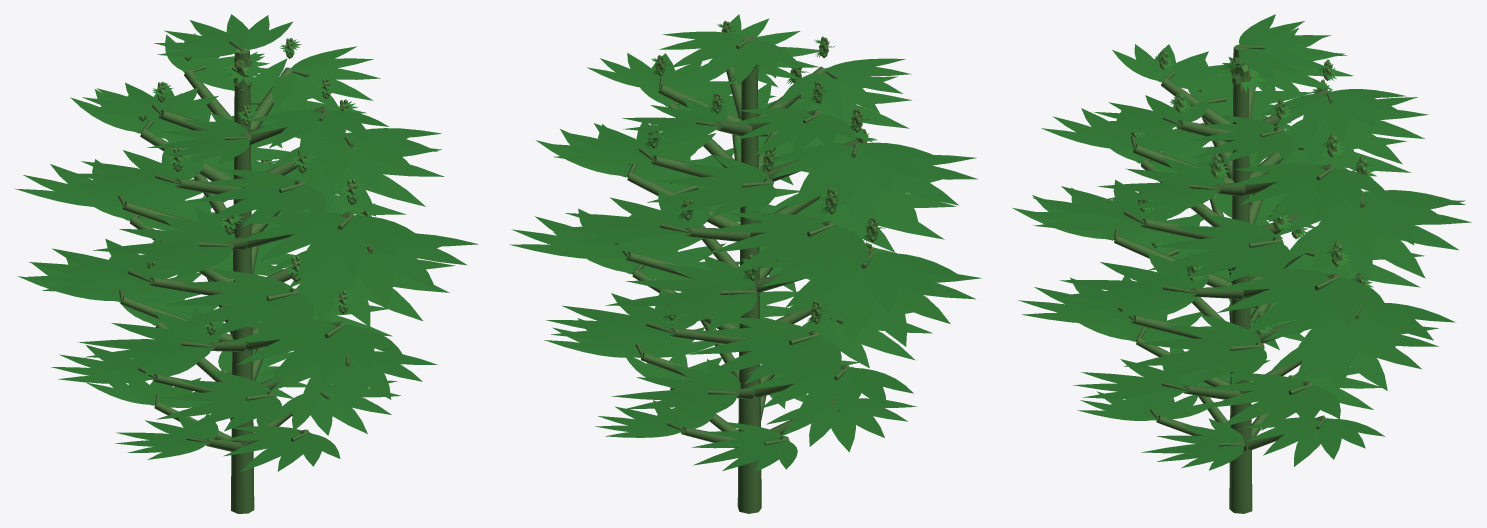
File: plant-harvest.glb
3 views of the same model, side by side, from view 1: azimuth 30°, elevation 25°; view 2: azimuth 150°, elevation 25°; view 3: azimuth 270°, elevation 25° (orthographic). The views are drawn at different scales.
Parts seen in each view (by area): view 1: LeafBlade (×90), Branch (×6); view 2: LeafBlade (×93), Branch (×5); view 3: LeafBlade (×92), Branch (×6).
Boxes of the visible parts, x1=… form: LeafBlade (×90): x1=15, y1=46, x2=478, y2=435; Branch (×6): x1=120, y1=47, x2=254, y2=513; LeafBlade (×93): x1=509, y1=31, x2=977, y2=452; Branch (×5): x1=627, y1=35, x2=761, y2=513; LeafBlade (×92): x1=1012, y1=35, x2=1465, y2=466; Branch (×6): x1=1114, y1=44, x2=1252, y2=513.
Size of the model in its own units: 0.9656 by 1.05 by 0.951.
